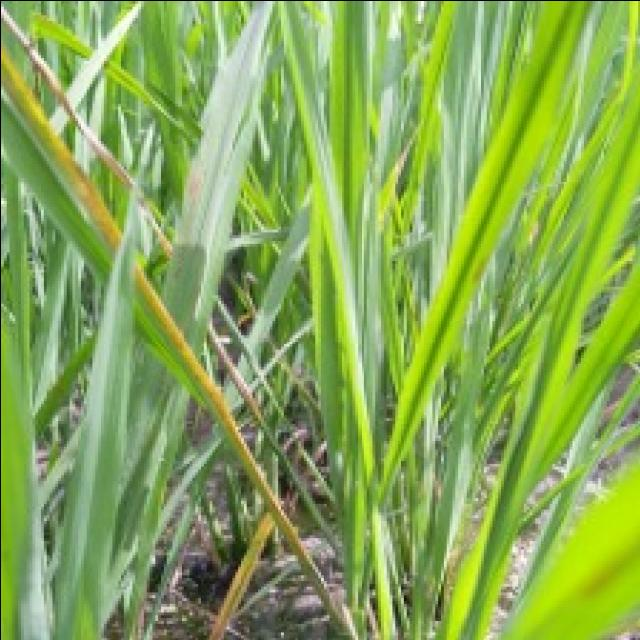Unhealthy: (135, 263, 323, 588), (0, 2, 138, 190), (0, 41, 120, 251), (207, 512, 276, 640), (207, 323, 262, 426), (141, 204, 170, 257)
